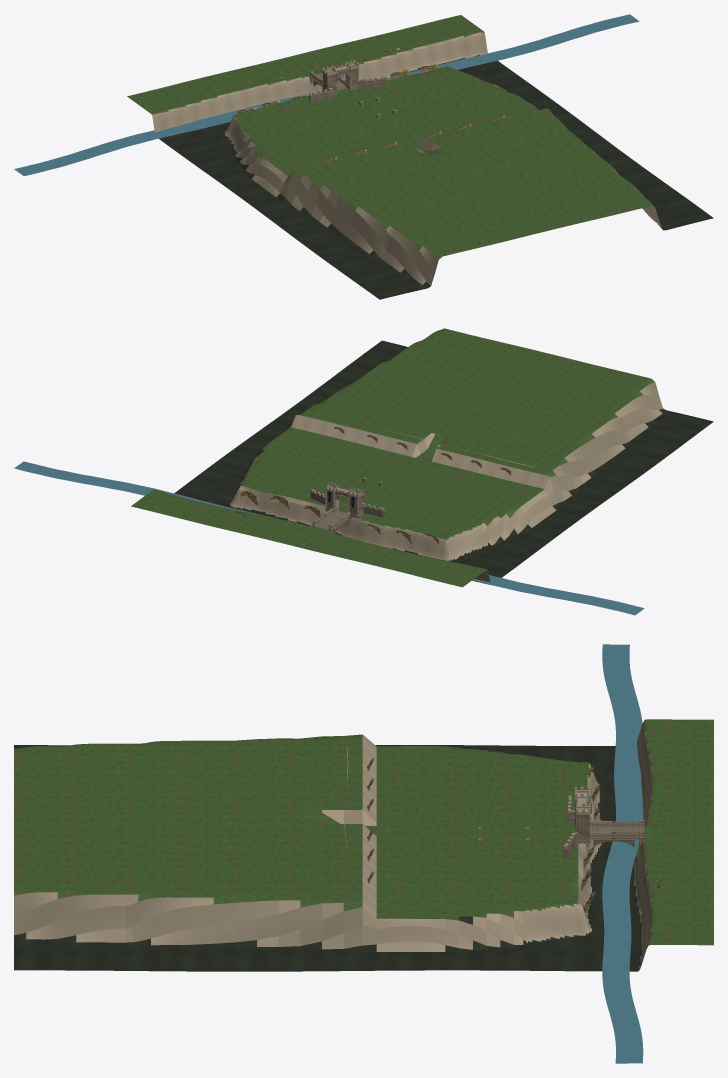
Rendered from ValoriaEntryZoneV2.glb.
The picture shows the model from 3 angles, top to bottom: view 1: azimuth 30°, elevation 25°; view 2: azimuth 150°, elevation 25°; view 3: azimuth 270°, elevation 25°; orthographic projection. The views are drawn at different scales.
Visible parts, largest first — view 1: ValoriaEntryTerrainV2, V3_V2_VALORIA_RIVER_CONTINUOUS_RIPPLED_WATER; view 2: ValoriaEntryTerrainV2, V3_V2_VALORIA_RIVER_CONTINUOUS_RIPPLED_WATER; view 3: ValoriaEntryTerrainV2, V3_V2_VALORIA_RIVER_CONTINUOUS_RIPPLED_WATER.
Boxes of the visible parts, left/top/right/bottom form: ValoriaEntryTerrainV2: left=127, top=15, right=713, bottom=299; V3_V2_VALORIA_RIVER_CONTINUOUS_RIPPLED_WATER: left=14, top=14, right=639, bottom=175; ValoriaEntryTerrainV2: left=131, top=328, right=713, bottom=587; V3_V2_VALORIA_RIVER_CONTINUOUS_RIPPLED_WATER: left=14, top=461, right=644, bottom=615; ValoriaEntryTerrainV2: left=14, top=719, right=713, bottom=971; V3_V2_VALORIA_RIVER_CONTINUOUS_RIPPLED_WATER: left=602, top=644, right=643, bottom=1063.
Bounding box in the file's own units: 166 × 11.22 × 117.
10 materials, 8 textured.
